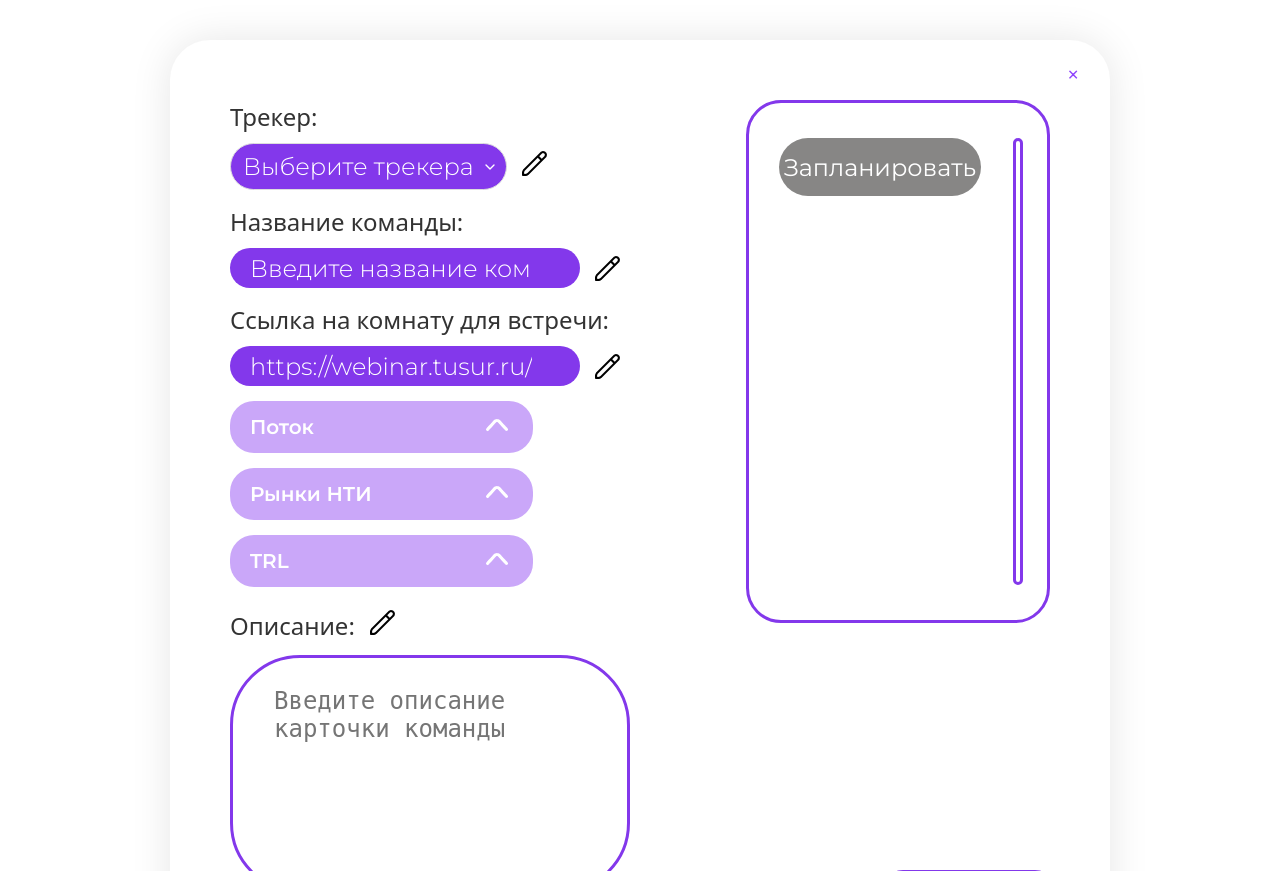
Test: TeamCard — создание карточки команды › отображает список трекеров для админа
Click the button "Выберите трекера": [368, 166] box 230,143 -> 507,190
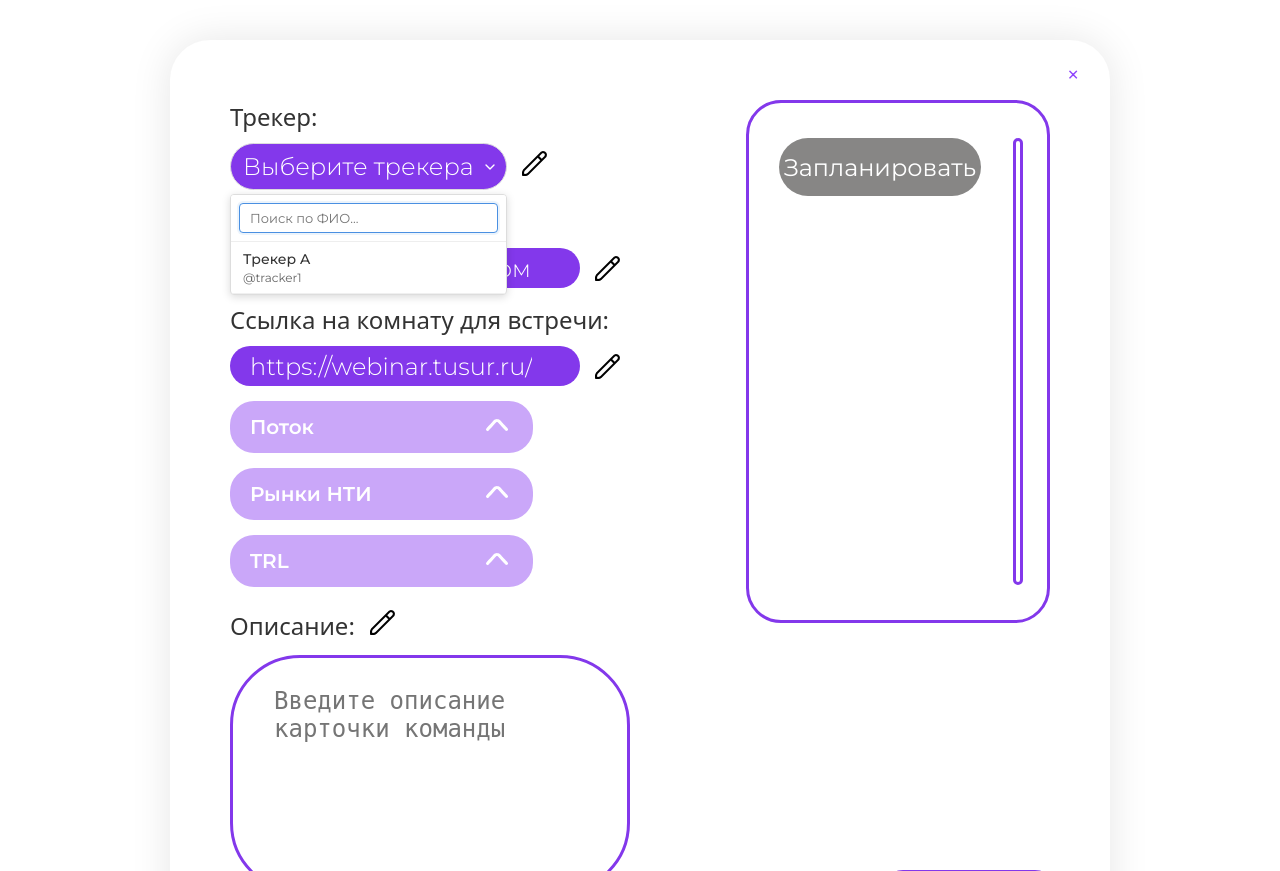
Click the text "Трекер A": [277, 259] box 243,250 -> 310,268
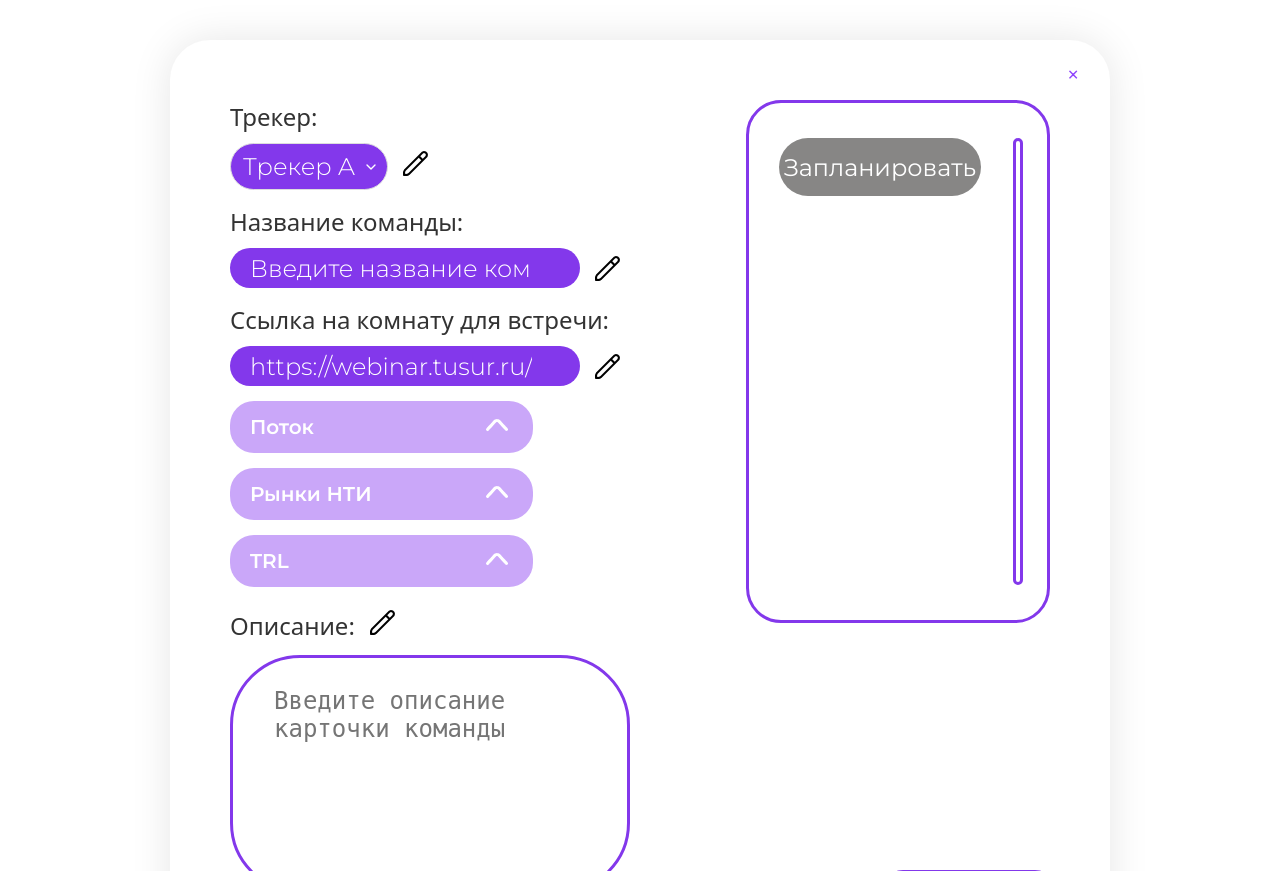
Result: the text "Трекер A" is shown at 230,143 -> 388,190
